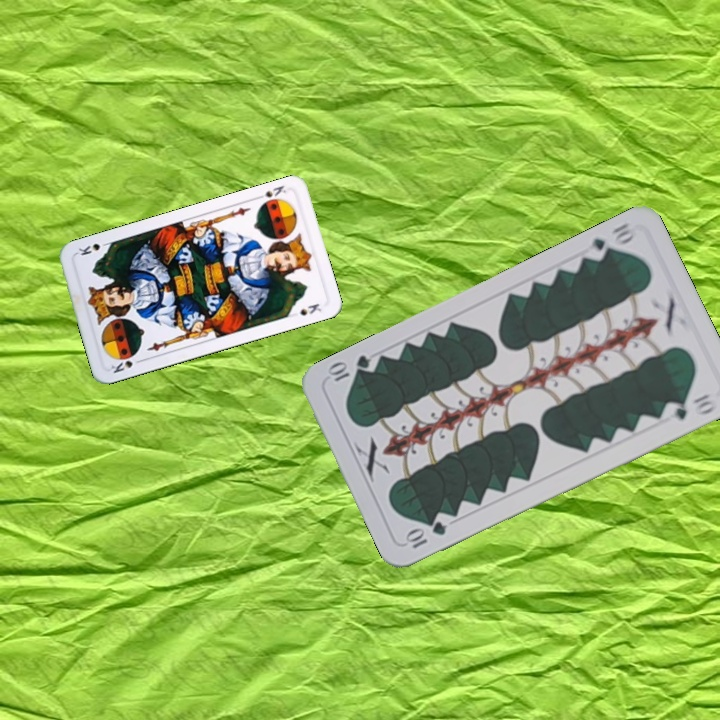G10: (585, 219, 637, 264), (401, 517, 449, 551)
SK: (107, 355, 146, 376), (252, 181, 289, 202)
